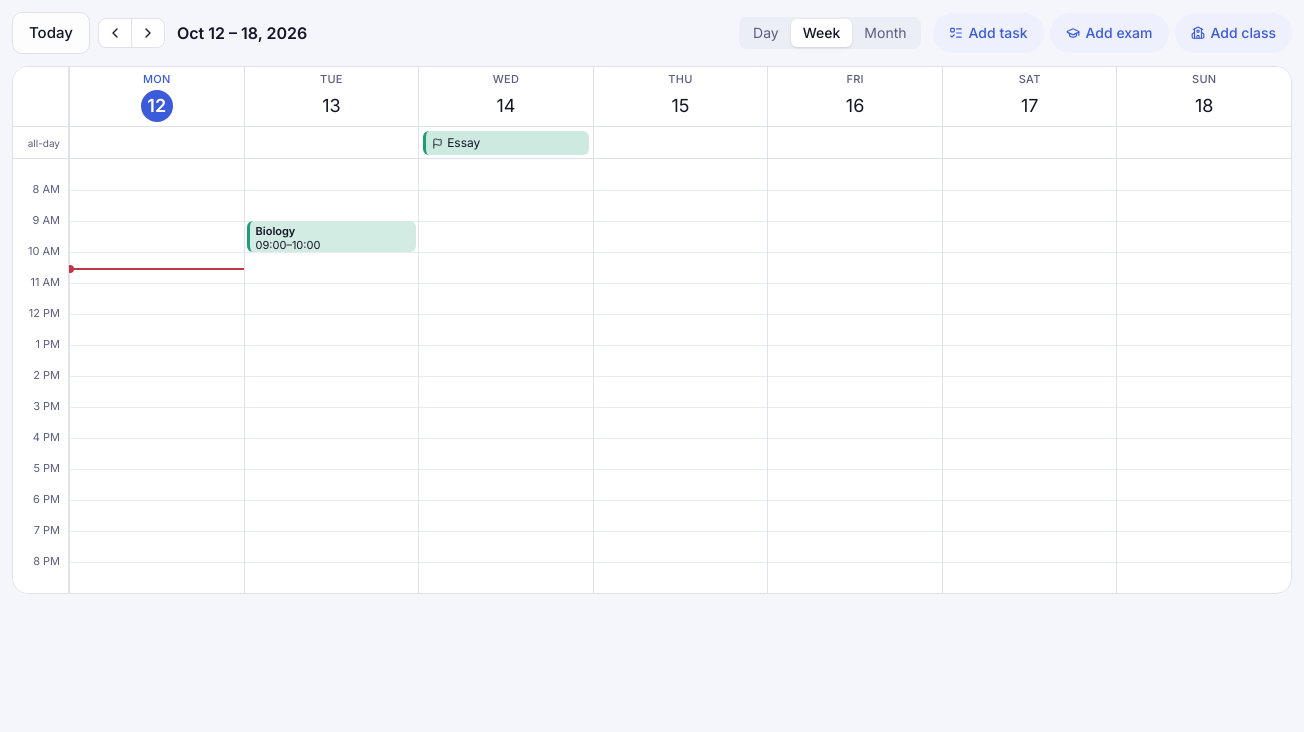
Test: CalendarView › opens on this week, with the week to come at one tap each way
The width and height of the screenshot is (1304, 732).
Expected: the heading "Oct 12 – 18, 2026" is shown, [177, 21, 307, 45]
Step 1. Click the button named "Next" → {"x": 148, "y": 33}, box [132, 19, 164, 47]
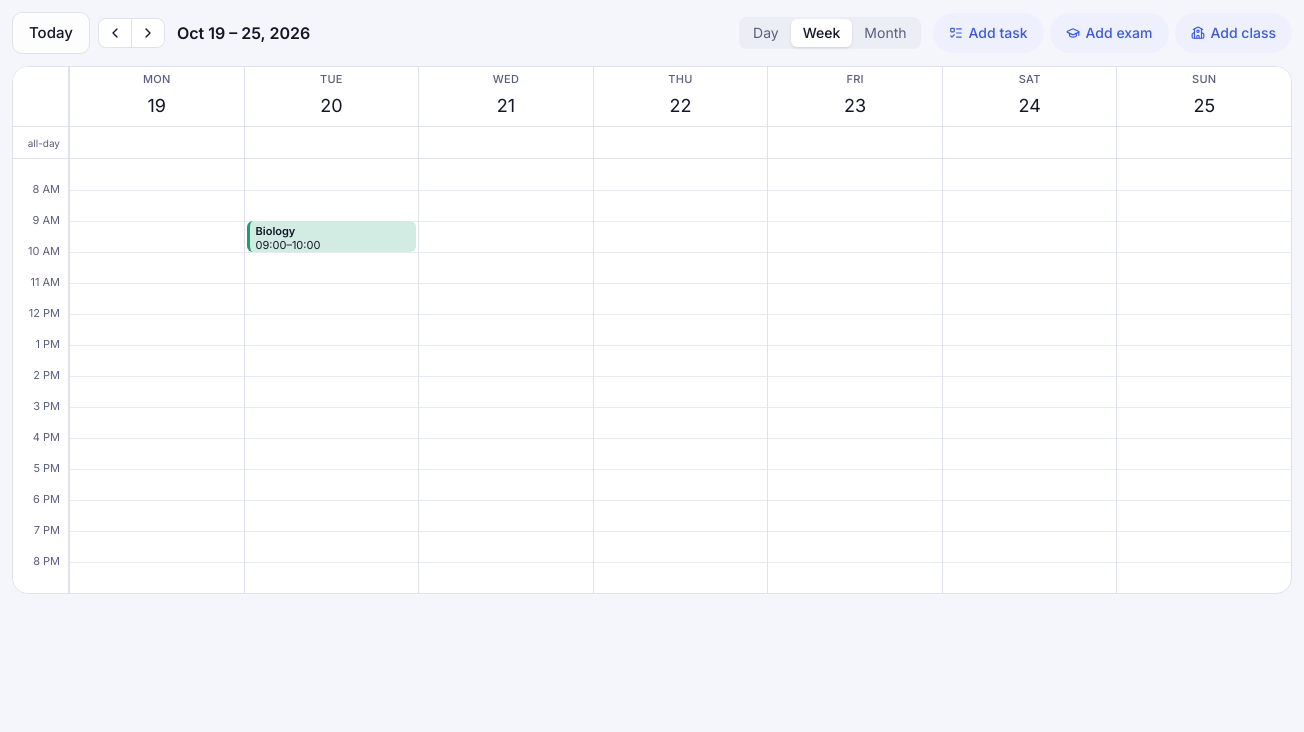
Expected: the heading "Oct 19 – 25, 2026" is shown, [177, 21, 310, 45]
Step 2. Click the button "Today" → {"x": 51, "y": 33}, box [12, 12, 90, 54]
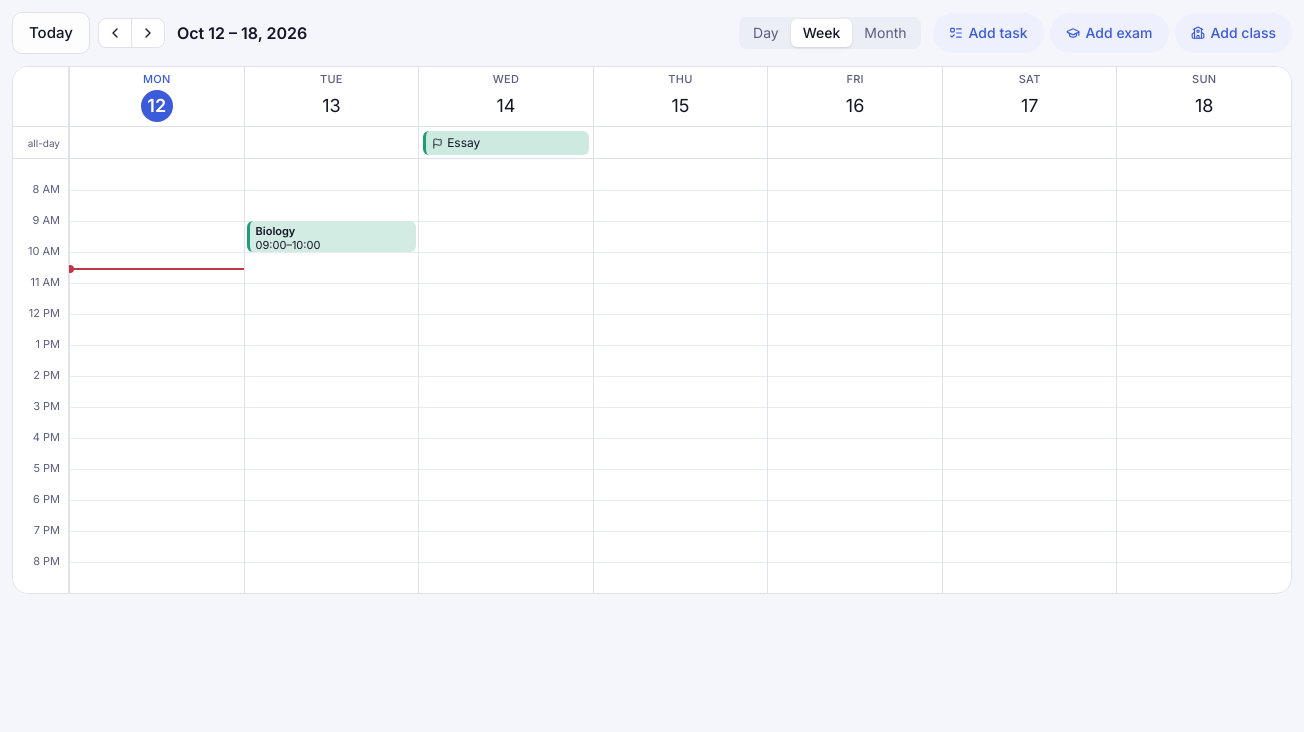
Expected: the heading "Oct 12 – 18, 2026" is shown, [177, 21, 307, 45]
